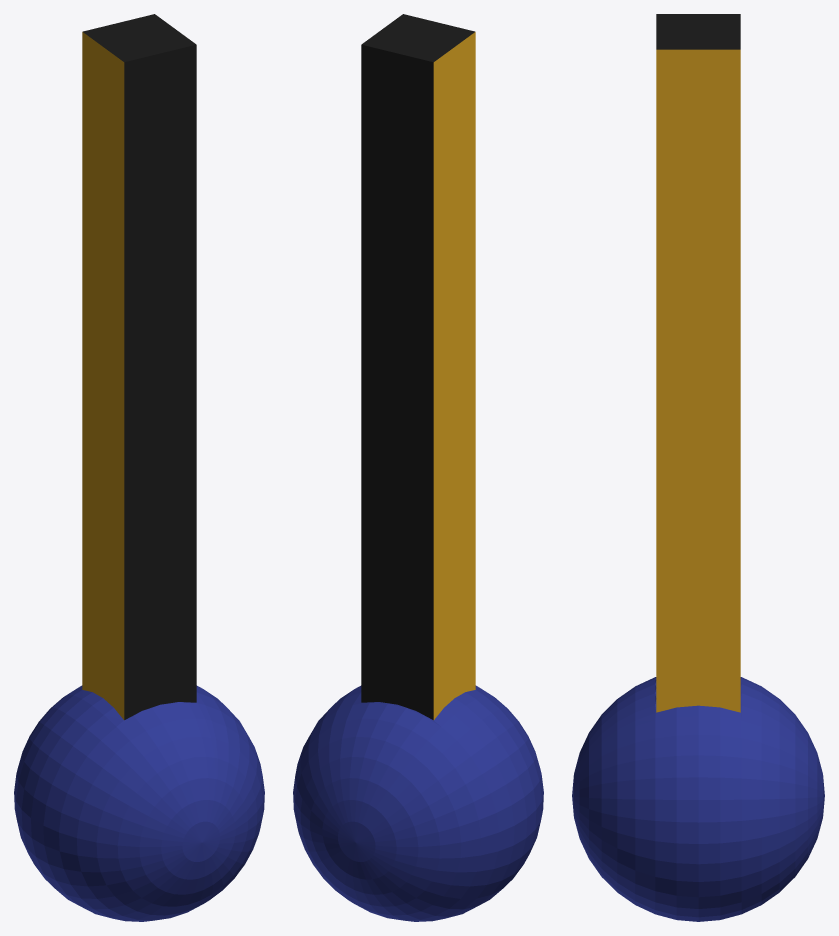
The model's file is Forearm.obj.
The picture shows the model from 3 angles, left to right: view 1: azimuth 30°, elevation 25°; view 2: azimuth 150°, elevation 25°; view 3: azimuth 270°, elevation 25°; orthographic projection.
Parts seen in each view (by area): view 1: Body1; view 2: Body1; view 3: Body1.
Boxes of the visible parts, box(x1,y1,x2,y2) form: Body1: box(14, 14, 264, 921); Body1: box(293, 14, 543, 921); Body1: box(572, 14, 824, 921).
Size of the model in its own units: 5.99 by 23 by 6.
